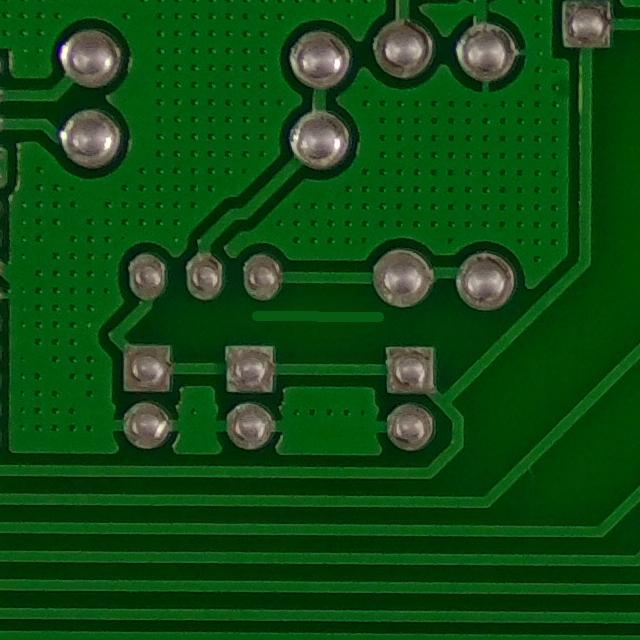spurious_copper: (241, 288, 400, 353)
